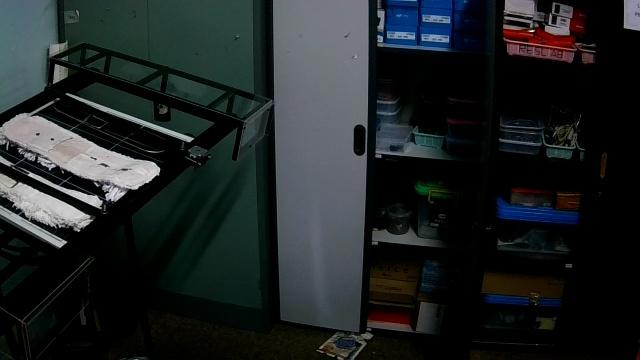Lemari: (271, 0, 486, 347)
